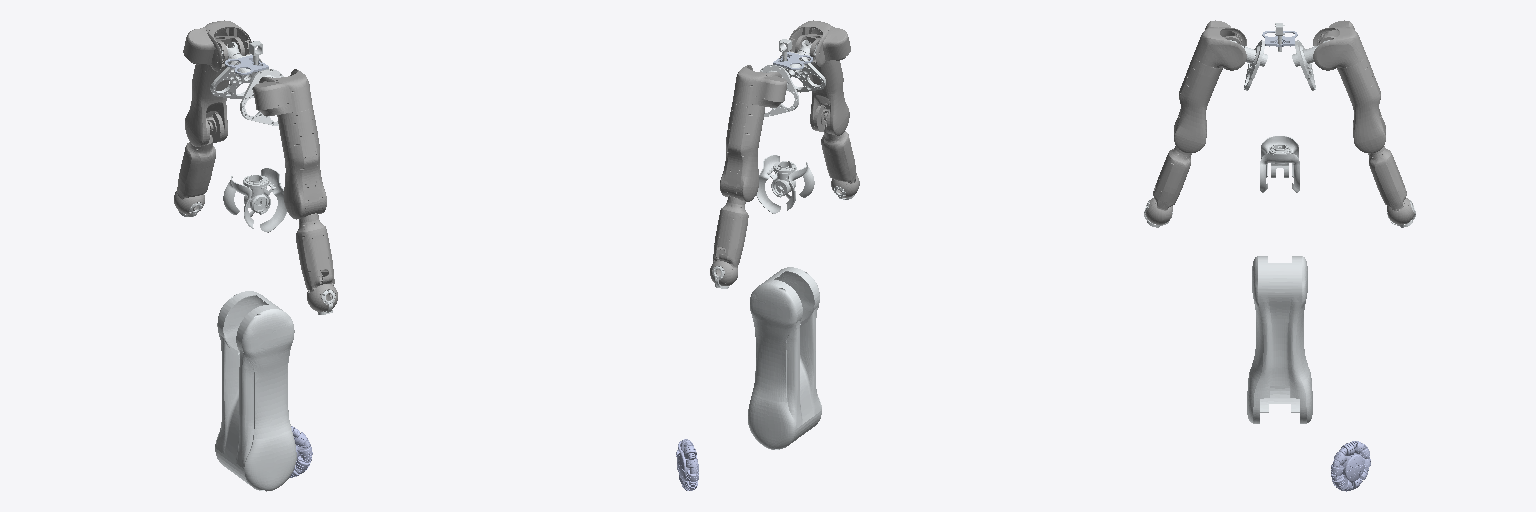
--- Render facts (derived) ---
The picture shows the robot from 3 angles, left to right: view 1: azimuth 30°, elevation 25°; view 2: azimuth 150°, elevation 25°; view 3: azimuth 270°, elevation 25°; orthographic projection.
Model astribot_whole_body with 31 links and 30 joints (20 revolute, 4 continuous, 6 fixed), rooted at astribot_torso_base, posed all joints at 0.
Visible links, largest first — view 1: astribot_torso_link_1, astribot_arm_right_link_3, astribot_arm_right_link_5, astribot_arm_left_link_3, astribot_torso_link_3, astribot_arm_left_link_2, astribot_arm_right_link_2, astribot_arm_left_link_5, astribot_arm_right_base_link, astribot_arm_left_base_link, wheel_LF_Link; view 2: astribot_torso_link_1, astribot_arm_left_link_3, astribot_arm_left_link_5, astribot_arm_right_link_3, astribot_torso_link_3, astribot_arm_right_link_2, astribot_arm_left_link_2, astribot_arm_right_link_5, wheel_LF_Link, astribot_arm_left_base_link, astribot_arm_right_base_link; view 3: astribot_torso_link_1, astribot_arm_left_link_3, astribot_arm_right_link_3, astribot_arm_left_link_2, astribot_arm_right_link_2, astribot_arm_left_link_5, astribot_arm_right_link_5, astribot_torso_link_3, wheel_LF_Link.
Link boxes in pixels (x1,y1,x2,y2): astribot_torso_link_1: (215,291,296,491); astribot_arm_right_link_3: (277,107,326,219); astribot_arm_right_link_5: (296,219,337,310); astribot_arm_left_link_3: (185,64,229,146); astribot_torso_link_3: (223,168,286,232); astribot_arm_left_link_2: (183,20,251,71); astribot_arm_right_link_2: (253,69,312,115); astribot_arm_left_link_5: (174,142,215,213); astribot_arm_right_base_link: (240,69,283,125); astribot_arm_left_base_link: (210,54,261,98); wheel_LF_Link: (289,426,312,477); astribot_torso_link_1: (748,267,821,449); astribot_arm_left_link_3: (720,100,764,201); astribot_arm_left_link_5: (710,201,748,285); astribot_arm_right_link_3: (809,60,849,135); astribot_torso_link_3: (756,155,814,213); astribot_arm_right_link_2: (789,20,850,66); astribot_arm_left_link_2: (733,65,786,107); astribot_arm_right_link_5: (821,131,859,196); wheel_LF_Link: (676,439,698,490); astribot_arm_left_base_link: (760,65,798,116); astribot_arm_right_base_link: (779,51,825,92); astribot_torso_link_1: (1247,256,1312,423); astribot_arm_left_link_3: (1337,55,1385,153); astribot_arm_right_link_3: (1174,55,1222,153); astribot_arm_left_link_2: (1313,20,1365,70); astribot_arm_right_link_2: (1194,20,1246,70); astribot_arm_left_link_5: (1368,148,1412,224); astribot_arm_right_link_5: (1147,148,1191,224); astribot_torso_link_3: (1260,136,1299,192); wheel_LF_Link: (1331,441,1370,491).
Bounding box of the posed robot: 0.3886 × 0.8328 × 1.47 m (x, y, z).
Meshes: 22 distinct files referenced, 21 mesh visuals loaded (15 binary STL); not drawn: 7 (reference not matched to a file when rendering).

URDF robot description (astribot_whole_body):
<?xml version="1.0" ?>
<!-- =================================================================================== -->
<!-- |    This document was autogenerated by xacro from astribot_s1_whole_body_with_wheel.xacro | -->
<!-- |    EDITING THIS FILE BY HAND IS NOT RECOMMENDED                                 | -->
<!-- =================================================================================== -->
<!-- run: xacro astribot_s1_whole_body.xacro -o astribot_s1_whole_body.urdf to generate the following .urdf file -->
<robot name="astribot_whole_body">
  <link name="astribot_torso_base">
    <inertial>
      <origin rpy="0 0 0" xyz="-0.062784 0.007017 0.035375"/>
      <mass value="39.24781"/>
      <inertia ixx="1.071997" ixy="0.015889" ixz="-0.058447" iyy="1.218431" iyz="-0.002015" izz="1.489411"/>
    </inertial>
    <visual>
      <origin rpy="0 0 0" xyz="0 0 0"/>
      <geometry>
        <mesh filename="s1_torso/astribot_torso_base_link.STL"/>
      </geometry>
      <material name="">
        <color rgba="0.79216 0.81961 0.93333 1"/>
      </material>
    </visual>
    <collision>
      <origin rpy="0 0 0" xyz="0 0 -0.05"/>
      <geometry>
        <cylinder length="0.1" radius="0.3"/>
      </geometry>
    </collision>
  </link>
  <link name="wheel_RF_Link">
    <inertial>
      <origin rpy="0 0 0" xyz="2.7624E-07 -1.7583E-07 0.014539"/>
      <mass value="0.56418"/>
      <inertia ixx="0.00083188" ixy="3.5362E-09" ixz="-2.2361E-10" iyy="0.00083188" iyz="1.788E-10" izz="0.0015639"/>
    </inertial>
    <visual>
      <origin rpy="0 0 0" xyz="0 0 0"/>
      <geometry>
        <mesh filename="s1_torso/wheel_RF_Link.STL"/>
      </geometry>
      <material name="">
        <color rgba="0.75294 0.75294 0.75294 1"/>
      </material>
    </visual>
  </link>
  <joint name="wheel_RF_Joint" type="continuous">
    <origin rpy="2.35619 -1.5708 0" xyz="0.21634675 -0.21634675 -0.015"/>
    <parent link="astribot_torso_base"/>
    <child link="wheel_RF_Link"/>
    <axis xyz="0 0 1"/>
  </joint>
  <link name="wheel_LF_Link">
    <inertial>
      <origin rpy="0 0 0" xyz="2.7617E-07 -1.7589E-07 0.014539"/>
      <mass value="0.56418"/>
      <inertia ixx="0.00083188" ixy="3.5366E-09" ixz="-2.2387E-10" iyy="0.00083188" iyz="1.782E-10" izz="0.0015639"/>
    </inertial>
    <visual>
      <origin rpy="0 0 0" xyz="0 0 0"/>
      <geometry>
        <mesh filename="s1_torso/wheel_LF_Link.STL"/>
      </geometry>
      <material name="">
        <color rgba="0.79216 0.81961 0.93333 1"/>
      </material>
    </visual>
  </link>
  <joint name="wheel_LF_Joint" type="continuous">
    <origin rpy="-2.35619 -1.5708 0" xyz="0.21634675 0.21634675 -0.015"/>
    <parent link="astribot_torso_base"/>
    <child link="wheel_LF_Link"/>
    <axis xyz="0 0 1"/>
  </joint>
  <link name="wheel_RR_Link">
    <inertial>
      <origin rpy="0 0 0" xyz="-2.7619E-07 1.7583E-07 0.014539"/>
      <mass value="0.56418"/>
      <inertia ixx="0.00083188" ixy="3.5357E-09" ixz="2.2361E-10" iyy="0.00083188" iyz="-1.7877E-10" izz="0.0015639"/>
    </inertial>
    <visual>
      <origin rpy="0 0 0" xyz="0 0 0"/>
      <geometry>
        <mesh filename="s1_torso/wheel_RR_Link.STL"/>
      </geometry>
      <material name="">
        <color rgba="0.79216 0.81961 0.93333 1"/>
      </material>
    </visual>
  </link>
  <joint name="wheel_RR_Joint" type="continuous">
    <origin rpy="0.785398 -1.5708 0" xyz="-0.21634675 -0.21134675 -0.015"/>
    <parent link="astribot_torso_base"/>
    <child link="wheel_RR_Link"/>
    <axis xyz="0 0 1"/>
  </joint>
  <link name="wheel_LR_Link">
    <inertial>
      <origin rpy="0 0 0" xyz="0.0019998 -0.0070713 0.014539"/>
      <mass value="0.56418"/>
      <inertia ixx="0.00083188" ixy="-3.5327E-09" ixz="1.7812E-10" iyy="0.00083188" iyz="2.2432E-10" izz="0.0015639"/>
    </inertial>
    <visual>
      <origin rpy="0 0 0" xyz="0 0 0"/>
      <geometry>
        <mesh filename="s1_torso/wheel_LR_Link.STL"/>
      </geometry>
      <material name="">
        <color rgba="0.79216 0.81961 0.93333 1"/>
      </material>
    </visual>
  </link>
  <joint name="wheel_LR_Joint" type="continuous">
    <origin rpy="-0.785398 -1.5708 0" xyz="-0.21634675 0.21134675 -0.015"/>
    <parent link="astribot_torso_base"/>
    <child link="wheel_LR_Link"/>
    <axis xyz="0 0 1"/>
  </joint>
  <link name="astribot_torso_link_1">
    <inertial>
      <origin rpy="0 0 0" xyz="-0.15249 0.00021066 -0.0033476"/>
      <mass value="7.3766"/>
      <inertia ixx="0.028834" ixy="-0.0052759" ixz="0.00010767" iyy="0.1483" iyz="1.1652E-05" izz="0.14268"/>
    </inertial>
    <visual>
      <origin rpy="0 0 0" xyz="0 0 0"/>
      <geometry>
        <mesh filename="s1_torso/astribot_torso_link_1.STL"/>
      </geometry>
      <material name="">
        <color rgba="0.89804 0.91765 0.92941 1"/>
      </material>
    </visual>
    <collision>
      <origin rpy="0 1.57 0" xyz="-0.15 0 0"/>
      <geometry>
        <cylinder length="0.3" radius="0.1"/>
      </geometry>
    </collision>
  </link>
  <joint name="astribot_torso_joint_1" type="revolute">
    <origin rpy="-1.5708 1.5708 0" xyz="0 0 0.12"/>
    <parent link="astribot_torso_base"/>
    <child link="astribot_torso_link_1"/>
    <axis xyz="0 0 1"/>
    <limit effort="100" lower="0.0" upper="1.4" velocity="6.0"/>
  </joint>
  <link name="astribot_torso_link_2">
    <inertial>
      <origin rpy="0 0 0" xyz="-0.22214 0.028873 0.00059024"/>
      <mass value="5.6183"/>
      <inertia ixx="0.0082545" ixy="0.0011523" ixz="0.00035614" iyy="0.012677" iyz="-5.8287E-05" izz="0.017512"/>
    </inertial>
    <visual>
      <origin rpy="0 0 0" xyz="0 0 0"/>
      <geometry>
        <mesh filename="s1_torso/astribot_torso_link_2.STL"/>
      </geometry>
      <material name="">
        <color rgba="0.89804 0.91765 0.92941 1"/>
      </material>
    </visual>
    <collision>
      <origin rpy="0 1.57 -0.25" xyz="-0.15 0.03 0"/>
      <geometry>
        <cylinder length="0.3" radius="0.1"/>
      </geometry>
    </collision>
  </link>
  <joint name="astribot_torso_joint_2" type="revolute">
    <origin rpy="0 0 0" xyz="-0.38 0 0"/>
    <parent link="astribot_torso_link_1"/>
    <child link="astribot_torso_link_2"/>
    <axis xyz="0 0 1"/>
    <limit effort="100" lower="-2.3" upper="0.0" velocity="6.0"/>
  </joint>
  <link name="astribot_torso_link_3">
    <inertial>
      <origin rpy="0 0 0" xyz="-0.017519 0.00059523 0.00025821"/>
      <mass value="0.49013"/>
      <inertia ixx="0.00022212" ixy="-2.6767E-07" ixz="4.3987E-07" iyy="0.00036522" iyz="3.8834E-07" izz="0.00038039"/>
    </inertial>
    <visual>
      <origin rpy="0 0 0" xyz="0 0 0"/>
      <geometry>
        <mesh filename="s1_torso/astribot_torso_link_3.STL"/>
      </geometry>
      <material name="">
        <color rgba="0.89804 0.91765 0.92941 1"/>
      </material>
    </visual>
    <collision>
      <origin rpy="0 1.57 0" xyz="-0.18 0.01 0"/>
      <geometry>
        <cylinder length="0.35" radius="0.09"/>
      </geometry>
    </collision>
  </link>
  <joint name="astribot_torso_joint_3" type="revolute">
    <origin rpy="0 0 0" xyz="-0.390 0 0"/>
    <parent link="astribot_torso_link_2"/>
    <child link="astribot_torso_link_3"/>
    <axis xyz="0 0 1"/>
    <limit effort="100" lower="0.0" upper="2.3" velocity="6.0"/>
  </joint>
  <link name="astribot_torso_link_4">
    <inertial>
      <origin rpy="0 0 0" xyz="0.00476227191516749 -4.56966810241128E-05 0.242912573510671"/>
      <mass value="3.55695635704638"/>
      <inertia ixx="0.0165768322563514" ixy="-9.94098112646385E-06" ixz="-0.000100011483384926" iyy="0.014904355097835" iyz="9.86752047032885E-07" izz="0.0110629318711333"/>
    </inertial>
    <visual>
      <origin rpy="0 0 0" xyz="0 0 0"/>
      <geometry>
        <mesh filename="s1_torso/astribot_torso_link_4.STL"/>
      </geometry>
      <material name="">
        <color rgba="0.898039215686275 0.917647058823529 0.929411764705882 1"/>
      </material>
    </visual>
  </link>
  <joint name="astribot_torso_joint_4" type="revolute">
    <origin rpy="1.5708 0 -1.5708" xyz="0 0 0"/>
    <parent link="astribot_torso_link_3"/>
    <child link="astribot_torso_link_4"/>
    <axis xyz="0 0 1"/>
    <limit effort="100" lower="-1.5" upper="1.5" velocity="6.0"/>
  </joint>
  <link name="astribot_torso_end_effector">
    <inertial>
      <origin rpy="0 0 0" xyz="0 0 0"/>
      <mass value="0"/>
      <inertia ixx="0" ixy="0" ixz="0" iyy="0" iyz="0" izz="0"/>
    </inertial>
  </link>
  <joint name="astribot_torso_end_effector_fixed_joint" type="fixed">
    <origin rpy="0.0 0.0 0.0" xyz="0 0 0.34475"/>
    <parent link="astribot_torso_link_4"/>
    <child link="astribot_torso_end_effector"/>
  </joint>
  <link name="astribot_head_base_link">
    <inertial>
      <origin rpy="0 0 0" xyz="-0.02816247 -0.00023176 -0.05211965"/>
      <mass value="0.39541440"/>
      <inertia ixx="0.00036025" ixy="-0.00003505" ixz="0.00004865" iyy="0.00049377" iyz="0.00000243" izz="0.00074441"/>
    </inertial>
    <visual>
      <origin rpy="0 0 0" xyz="0 0 0"/>
      <geometry>
        <mesh filename="s1_head/astribot_head_base_link.STL"/>
      </geometry>
      <material name="">
        <color rgba="0.807843137254902 0.843137254901961 0.905882352941176 1"/>
      </material>
    </visual>
  </link>
  <link name="astribot_head_link_1">
    <inertial>
      <origin rpy="0 0 0" xyz="0.00003191 -0.00038566 -0.02579910"/>
      <mass value="0.13910581"/>
      <inertia ixx="0.00004567" ixy="0.00000003" ixz="0.00000004" iyy="0.00004789" iyz="-0.00000091" izz="0.00003779"/>
    </inertial>
    <visual>
      <origin rpy="0 0 0" xyz="0 0 0"/>
      <geometry>
        <mesh filename="s1_head/astribot_head_link_1.STL"/>
      </geometry>
      <material name="">
        <color rgba="0.898039215686275 0.917647058823529 0.929411764705882 1"/>
      </material>
    </visual>
  </link>
  <joint name="astribot_head_joint_1" type="revolute">
    <origin rpy="0 0 0" xyz="0 0 0"/>
    <parent link="astribot_head_base_link"/>
    <child link="astribot_head_link_1"/>
    <axis xyz="0 0 1"/>
    <limit effort="100" lower="-1.57" upper="1.57" velocity="4.0"/>
  </joint>
  <link name="astribot_head_link_2">
    <inertial>
      <origin rpy="0 0 0" xyz="0.00705824 -0.14472601 -0.00061724"/>
      <mass value="0.97012447"/>
      <inertia ixx="0.00555660" ixy="-0.00041600" ixz="-0.00000036" iyy="0.00151908" iyz="-0.00012043" izz="0.00544493"/>
    </inertial>
    <visual>
      <origin rpy="0 0 0" xyz="0 0 0"/>
      <geometry>
        <mesh filename="s1_head/astribot_head_link_2.STL"/>
      </geometry>
      <material name="">
        <color rgba="0.807843137254902 0.843137254901961 0.905882352941176 1"/>
      </material>
    </visual>
    <collision>
      <origin rpy="0 0 0" xyz="0 -0.15 0"/>
      <geometry>
        <sphere radius="0.11"/>
      </geometry>
    </collision>
  </link>
  <joint name="astribot_head_joint_2" type="revolute">
    <origin rpy="-1.5708 0 0" xyz="0 0 0"/>
    <parent link="astribot_head_link_1"/>
    <child link="astribot_head_link_2"/>
    <axis xyz="0 0 1"/>
    <limit effort="100" lower="-1.22" upper="1.22" velocity="4.0"/>
  </joint>
  <link name="astribot_arm_left_base_link">
    <inertial>
      <origin rpy="0 0 0" xyz="-0.04309067 -0.01849796 -0.01384838"/>
      <mass value="2.22887320"/>
      <inertia ixx="0.00386389" ixy="-0.00050396" ixz="0.00025566" iyy="0.00306042" iyz="0.00019224" izz="0.00570294"/>
    </inertial>
    <visual>
      <origin rpy="0 0 0" xyz="0 0 0"/>
      <geometry>
        <mesh filename="s1_arm/astribot_arm_left_base_link.STL"/>
      </geometry>
      <material name="">
        <color rgba="0.898039215686275 0.917647058823529 0.929411764705882 1"/>
      </material>
    </visual>
  </link>
  <link name="astribot_arm_left_link_1">
    <inertial>
      <origin rpy="0 0 0" xyz="0.00012026 0.00047499 -0.05682561"/>
      <mass value="0.59936716"/>
      <inertia ixx="0.00064791" ixy="0.00000149" ixz="0.00000133" iyy="0.00065264" iyz="0.00000160" izz="0.00050137"/>
    </inertial>
    <visual>
      <origin rpy="0 0 0" xyz="0 0 0"/>
      <geometry>
        <mesh filename="s1_arm/astribot_arm_link_1.STL"/>
      </geometry>
      <material name="">
        <color rgba="0.898039215686275 0.917647058823529 0.929411764705882 1"/>
      </material>
    </visual>
  </link>
  <joint name="astribot_arm_left_joint_1" type="revolute">
    <origin rpy="0 0 0" xyz="0 0 0.091"/>
    <parent link="astribot_arm_left_base_link"/>
    <child link="astribot_arm_left_link_1"/>
    <axis xyz="0 0 1"/>
    <limit effort="265" lower="-3.0" upper="3.0" velocity="8.4"/>
  </joint>
  <link name="astribot_arm_left_link_2">
    <inertial>
      <origin rpy="0 0 0" xyz="-0.00396228 0.03490708 0.04270156"/>
      <mass value="1.43694657"/>
      <inertia ixx="0.00360751" ixy="-0.00009193" ixz="0.00007764" iyy="0.00283747" iyz="0.00054945" izz="0.00172927"/>
    </inertial>
    <visual>
      <origin rpy="0 0 0" xyz="0 0 0"/>
      <geometry>
        <mesh filename="s1_arm/astribot_arm_left_link_2.STL"/>
      </geometry>
      <material name="">
        <color rgba="0.698039215686274 0.698039215686274 0.698039215686274 1"/>
      </material>
    </visual>
  </link>
  <joint name="astribot_arm_left_joint_2" type="revolute">
    <origin rpy="1.5708 0 0" xyz="0 0 0"/>
    <parent link="astribot_arm_left_link_1"/>
    <child link="astribot_arm_left_link_2"/>
    <axis xyz="0 0 1"/>
    <limit effort="265" lower="-1.4" upper="0.4" velocity="8.4"/>
  </joint>
  <link name="astribot_arm_left_link_3">
    <inertial>
      <origin rpy="0 0 0" xyz="0.00531263 0.00020707 0.16136713"/>
      <mass value="2.0926399"/>
      <inertia ixx="0.01752179" ixy="2.336e-05" ixz="0.00144018" iyy="0.01784671" iyz="-3.027e-05" izz="0.0021843"/>
    </inertial>
    <visual>
      <origin rpy="0 0 0" xyz="0 0 0"/>
      <geometry>
        <mesh filename="s1_arm/astribot_arm_link_3.STL"/>
      </geometry>
      <material name="">
        <color rgba="0.698039215686274 0.698039215686274 0.698039215686274 1"/>
      </material>
    </visual>
    <collision>
      <origin rpy="0 0 0" xyz="0 0 0.15"/>
      <geometry>
        <cylinder length="0.18" radius="0.05"/>
      </geometry>
    </collision>
  </link>
  <joint name="astribot_arm_left_joint_3" type="revolute">
    <origin rpy="1.5708 0 -1.5708" xyz="0 0.05 0"/>
    <parent link="astribot_arm_left_link_2"/>
    <child link="astribot_arm_left_link_3"/>
    <axis xyz="0 0 1"/>
    <limit effort="132" lower="-3.0" upper="1.4" velocity="8.4"/>
  </joint>
  <link name="astribot_arm_left_link_4">
    <inertial>
      <origin rpy="0 0 0" xyz="0.00017294 -0.01269315 0.00196140"/>
      <mass value="0.36587933"/>
      <inertia ixx="0.00047693" ixy="0.00000635" ixz=" 0.00000135" iyy="0.00036801" iyz="0.00000705" izz="0.00050082"/>
    </inertial>
    <visual>
      <origin rpy="0 0 0" xyz="0 0 0"/>
      <geometry>
        <mesh filename="s1_arm/astribot_arm_link_4.STL"/>
      </geometry>
      <material name="">
        <color rgba="0.698039215686274 0.698039215686274 0.698039215686274 1"/>
      </material>
    </visual>
    <collision>
      <origin rpy="0 0 0" xyz="0 0 0"/>
      <geometry>
        <sphere radius="0.06"/>
      </geometry>
    </collision>
  </link>
  <joint name="astribot_arm_left_joint_4" type="revolute">
    <origin rpy="-1.5708 0 0" xyz="0.03 0 0.309"/>
    <parent link="astribot_arm_left_link_3"/>
    <child link="astribot_arm_left_link_4"/>
    <axis xyz="0 0 1"/>
    <limit effort="142" lower="0.0" upper="2.4" velocity="15"/>
  </joint>
  <link name="astribot_arm_left_link_5">
    <inertial>
      <origin rpy="0 0 0" xyz="-0.00032037 -0.00015185 0.15370447"/>
      <mass value="1.24085064"/>
      <inertia ixx="0.00454092" ixy="1.58e-06" ixz="-5.91e-06" iyy="0.00438922" iyz="-4.927e-05" izz="0.00079442"/>
    </inertial>
    <visual>
      <origin rpy="0 0 0" xyz="0 0 0"/>
      <geometry>
        <mesh filename="s1_arm/astribot_arm_link_5.STL"/>
      </geometry>
      <material name="">
        <color rgba="0.698039215686274 0.698039215686274 0.698039215686274 1"/>
      </material>
    </visual>
    <collision>
      <origin rpy="0 0 0" xyz="0 0 0.14"/>
      <geometry>
        <cylinder length="0.14" radius="0.05"/>
      </geometry>
    </collision>
  </link>
  <joint name="astribot_arm_left_joint_5" type="revolute">
    <origin rpy="1.5708 0 0" xyz="0 0 0"/>
    <parent link="astribot_arm_left_link_4"/>
    <child link="astribot_arm_left_link_5"/>
    <axis xyz="0 0 1"/>
    <limit effort="71" lower="-2.0" upper="2.0" velocity="15"/>
  </joint>
  <link name="astribot_arm_left_link_6">
    <inertial>
      <origin rpy="0 0 0" xyz="-0.00010311 0.00001218 0.00013181"/>
      <mass value="0.22465307"/>
      <inertia ixx="0.00016474" ixy="0.00000007" ixz="0.00000025" iyy="0.00015608" iyz="0.00000018" izz="0.00008555"/>
    </inertial>
    <visual>
      <origin rpy="0 0 0" xyz="0 0 0"/>
      <geometry>
        <mesh filename="s1_arm/astribot_arm_link_6.STL"/>
      </geometry>
      <material name="">
        <color rgba="0.698039215686274 0.698039215686274 0.698039215686274 1"/>
      </material>
    </visual>
  </link>
  <joint name="astribot_arm_left_joint_6" type="revolute">
    <origin rpy="-1.5708 0 0" xyz="0 0 0.277"/>
    <parent link="astribot_arm_left_link_5"/>
    <child link="astribot_arm_left_link_6"/>
    <axis xyz="0 0 1"/>
    <limit effort="20" lower="-0.6" upper="0.6" velocity="16.8"/>
  </joint>
  <link name="astribot_arm_left_link_7">
    <inertial>
      <origin rpy="0 0 0" xyz="4.333e-05 -0.00723447 -0.00362428"/>
      <mass value="0.12772019"/>
      <inertia ixx="0.00013672" ixy="1.6e-07" ixz="-2.4e-07" iyy="0.00010783" iyz="-3.35e-06" izz="5.858e-05"/>
    </inertial>
    <visual>
      <origin rpy="0 0 0" xyz="0 0 0"/>
      <geometry>
        <mesh filename="s1_arm/astribot_arm_link_7.STL"/>
      </geometry>
      <material name="">
        <color rgba="0.898039215686275 0.917647058823529 0.929411764705882 1"/>
      </material>
    </visual>
    <collision>
      <origin rpy="0 0 0" xyz="0.006 0 0"/>
      <geometry>
        <sphere radius="0.05"/>
      </geometry>
    </collision>
  </link>
  <joint name="astribot_arm_left_joint_7" type="revolute">
    <origin rpy="0 1.5708 0" xyz="0 0 0"/>
    <parent link="astribot_arm_left_link_6"/>
    <child link="astribot_arm_left_link_7"/>
    <axis xyz="0 0 1"/>
    <limit effort="20" lower="-1.4" upper="1.4" velocity="16.8"/>
  </joint>
  <link name="astribot_arm_left_tool_link">
    <inertial>
      <origin rpy="0 0 0" xyz=" -0.00019766 -0.10719761 0.00190898"/>
      <mass value="0.64762850"/>
      <inertia ixx="0.00152446" ixy="0.00000144" ixz="-0.00000058" iyy="0.00033076" iyz="0.00004144" izz="0.00156453"/>
    </inertial>
  </link>
  <joint name="astribot_arm_left_tool_joint" type="fixed">
    <origin rpy="0 0 0" xyz="0 0 0"/>
    <parent link="astribot_arm_left_link_7"/>
    <child link="astribot_arm_left_tool_link"/>
  </joint>
  <link name="astribot_arm_right_base_link">
    <inertial>
      <origin rpy="0 0 0" xyz="-0.04450932 0.01988693 0.00162589"/>
      <mass value="2.22887320"/>
      <inertia ixx="0.00396811" ixy="0.00041290" ixz="-0.00033387" iyy="0.00304615" iyz="-0.00021572" izz="0.00574641"/>
    </inertial>
    <visual>
      <origin rpy="0 0 0" xyz="0 0 0"/>
      <geometry>
        <mesh filename="s1_arm/astribot_arm_right_base_link.STL"/>
      </geometry>
      <material name="">
        <color rgba="0.898039215686275 0.917647058823529 0.929411764705882 1"/>
      </material>
    </visual>
  </link>
  <link name="astribot_arm_right_link_1">
    <inertial>
      <origin rpy="0 0 0" xyz="0.00012026 0.00047499 -0.05682561"/>
      <mass value="0.59936716"/>
      <inertia ixx="0.00064791" ixy="0.00000149" ixz="0.00000133" iyy="0.00065264" iyz="0.00000160" izz="0.00050137"/>
    </inertial>
    <visual>
      <origin rpy="0 0 0" xyz="0 0 0"/>
      <geometry>
        <mesh filename="s1_arm/astribot_arm_link_1.STL"/>
      </geometry>
      <material name="">
        <color rgba="0.898039215686275 0.917647058823529 0.929411764705882 1"/>
      </material>
    </visual>
  </link>
  <joint name="astribot_arm_right_joint_1" type="revolute">
    <origin rpy="0 0 0" xyz="0 0 0.091"/>
    <parent link="astribot_arm_right_base_link"/>
    <child link="astribot_arm_right_link_1"/>
    <axis xyz="0 0 1"/>
    <limit effort="265" lower="-3.0" upper="3.0" velocity="8.4"/>
  </joint>
  <link name="astribot_arm_right_link_2">
    <inertial>
      <origin rpy="0 0 0" xyz="-0.00384709 0.03502105 -0.04050705"/>
      <mass value="1.45811037"/>
      <inertia ixx="0.00394196" ixy="-8.846e-05" ixz="-3.742e-05" iyy="0.00316298" iyz="-0.0007079" izz="0.00177295"/>
    </inertial>
    <visual>
      <origin rpy="0 0 0" xyz="0 0 0"/>
      <geometry>
        <mesh filename="s1_arm/astribot_arm_right_link_2.STL"/>
      </geometry>
      <material name="">
        <color rgba="0.698039215686274 0.698039215686274 0.698039215686274 1"/>
      </material>
    </visual>
  </link>
  <joint name="astribot_arm_right_joint_2" type="revolute">
    <origin rpy="1.5708 0 0" xyz="0 0 0"/>
    <parent link="astribot_arm_right_link_1"/>
    <child link="astribot_arm_right_link_2"/>
    <axis xyz="0 0 1"/>
    <limit effort="265" lower="-1.4" upper="0.4" velocity="8.4"/>
  </joint>
  <link name="astribot_arm_right_link_3">
    <inertial>
      <origin rpy="0 0 0" xyz="0.00531263 0.00020707 0.16136713"/>
      <mass value="2.0926399"/>
      <inertia ixx="0.01752179" ixy="2.336e-05" ixz="0.00144018" iyy="0.01784671" iyz="-3.027e-05" izz="0.0021843"/>
    </inertial>
    <visual>
      <origin rpy="0 0 0" xyz="0 0 0"/>
      <geometry>
        <mesh filename="s1_arm/astribot_arm_link_3.STL"/>
      </geometry>
      <material name="">
        <color rgba="0.698039215686274 0.698039215686274 0.698039215686274 1"/>
      </material>
    </visual>
    <collision>
      <origin rpy="0 0 0" xyz="0 0 0.15"/>
      <geometry>
        <cylinder length="0.18" radius="0.05"/>
      </geometry>
    </collision>
  </link>
  <joint name="astribot_arm_right_joint_3" type="revolute">
    <origin rpy="1.5708 0 -1.5708" xyz="0 0.05 0"/>
    <parent link="astribot_arm_right_link_2"/>
    <child link="astribot_arm_right_link_3"/>
    <axis xyz="0 0 1"/>
    <limit effort="132" lower="-1.4" upper="3.1" velocity="8.4"/>
  </joint>
  <link name="astribot_arm_right_link_4">
    <inertial>
      <origin rpy="0 0 0" xyz="0.00017294 -0.01269315 0.00196140"/>
      <mass value="0.36587933"/>
      <inertia ixx="0.00047693" ixy="0.00000635" ixz=" 0.00000135" iyy="0.00036801" iyz="0.00000705" izz="0.00050082"/>
    </inertial>
    <visual>
      <origin rpy="0 0 0" xyz="0 0 0"/>
      <geometry>
        <mesh filename="s1_arm/astribot_arm_link_4.STL"/>
      </geometry>
      <material name="">
        <color rgba="0.698039215686274 0.698039215686274 0.698039215686274 1"/>
      </material>
    </visual>
    <collision>
      <origin rpy="0 0 0" xyz="0 0 0"/>
      <geometry>
        <sphere radius="0.06"/>
      </geometry>
    </collision>
  </link>
  <joint name="astribot_arm_right_joint_4" type="revolute">
    <origin rpy="-1.5708 0 0" xyz="0.03 0 0.309"/>
    <parent link="astribot_arm_right_link_3"/>
    <child link="astribot_arm_right_link_4"/>
    <axis xyz="0 0 1"/>
    <limit effort="142" lower="0.0" upper="2.4" velocity="15"/>
  </joint>
  <link name="astribot_arm_right_link_5">
    <inertial>
      <origin rpy="0 0 0" xyz="-0.00032037 -0.00015185 0.15370447"/>
      <mass value="1.24085064"/>
      <inertia ixx="0.00454092" ixy="1.58e-06" ixz="-5.91e-06" iyy="0.00438922" iyz="-4.927e-05" izz="0.00079442"/>
    </inertial>
    <visual>
      <origin rpy="0 0 0" xyz="0 0 0"/>
      <geometry>
        <mesh filename="s1_arm/astribot_arm_link_5.STL"/>
      </geometry>
      <material name="">
        <color rgba="0.698039215686274 0.698039215686274 0.698039215686274 1"/>
      </material>
    </visual>
    <collision>
      <origin rpy="0 0 0" xyz="0 0 0.14"/>
      <geometry>
        <cylinder length="0.14" radius="0.05"/>
      </geometry>
    </collision>
  </link>
  <joint name="astribot_arm_right_joint_5" type="revolute">
    <origin rpy="1.5708 0 0" xyz="0 0 0"/>
    <parent link="astribot_arm_right_link_4"/>
    <child link="astribot_arm_right_link_5"/>
    <axis xyz="0 0 1"/>
    <limit effort="71" lower="-2.0" upper="2.0" velocity="15"/>
  </joint>
  <link name="astribot_arm_right_link_6">
    <inertial>
      <origin rpy="0 0 0" xyz="-0.00010311 0.00001218 0.00013181"/>
      <mass value="0.22465307"/>
      <inertia ixx="0.00016474" ixy="0.00000007" ixz="0.00000025" iyy="0.00015608" iyz="0.00000018" izz="0.00008555"/>
    </inertial>
    <visual>
      <origin rpy="0 0 0" xyz="0 0 0"/>
      <geometry>
        <mesh filename="s1_arm/astribot_arm_link_6.STL"/>
      </geometry>
      <material name="">
        <color rgba="0.698039215686274 0.698039215686274 0.698039215686274 1"/>
      </material>
    </visual>
  </link>
  <joint name="astribot_arm_right_joint_6" type="revolute">
    <origin rpy="-1.5708 0 0" xyz="0 0 0.277"/>
    <parent link="astribot_arm_right_link_5"/>
    <child link="astribot_arm_right_link_6"/>
    <axis xyz="0 0 1"/>
    <limit effort="20" lower="-0.6" upper="0.6" velocity="16.8"/>
  </joint>
  <link name="astribot_arm_right_link_7">
    <inertial>
      <origin rpy="0 0 0" xyz="4.333e-05 -0.00723447 -0.00362428"/>
      <mass value="0.12772019"/>
      <inertia ixx="0.00013672" ixy="1.6e-07" ixz="-2.4e-07" iyy="0.00010783" iyz="-3.35e-06" izz="5.858e-05"/>
    </inertial>
    <visual>
      <origin rpy="0 0 0" xyz="0 0 0"/>
      <geometry>
        <mesh filename="s1_arm/astribot_arm_link_7.STL"/>
      </geometry>
      <material name="">
        <color rgba="0.898039215686275 0.917647058823529 0.929411764705882 1"/>
      </material>
    </visual>
    <collision>
      <origin rpy="0 0 0" xyz="0.006 0 0"/>
      <geometry>
        <sphere radius="0.05"/>
      </geometry>
    </collision>
  </link>
  <joint name="astribot_arm_right_joint_7" type="revolute">
    <origin rpy="0 1.5708 0" xyz="0 0 0"/>
    <parent link="astribot_arm_right_link_6"/>
    <child link="astribot_arm_right_link_7"/>
    <axis xyz="0 0 1"/>
    <limit effort="20" lower="-1.4" upper="1.4" velocity="16.8"/>
  </joint>
  <link name="astribot_arm_right_tool_link">
    <inertial>
      <origin rpy="0 0 0" xyz=" -0.00019766 -0.10719761 0.00190898"/>
      <mass value="0.64762850"/>
      <inertia ixx="0.00152446" ixy="0.00000144" ixz="-0.00000058" iyy="0.00033076" iyz="0.00004144" izz="0.00156453"/>
    </inertial>
  </link>
  <joint name="astribot_arm_right_tool_joint" type="fixed">
    <origin rpy="0 0 0" xyz="0 0 0"/>
    <parent link="astribot_arm_right_link_7"/>
    <child link="astribot_arm_right_tool_link"/>
  </joint>
  <joint name="astribot_head_fixed_joint" type="fixed">
    <parent link="astribot_torso_end_effector"/>
    <child link="astribot_head_base_link"/>
    <origin rpy="0 0 0" xyz="0 0 0.1229"/>
  </joint>
  <joint name="astribot_arm_left_base_fixed_joint" type="fixed">
    <parent link="astribot_torso_end_effector"/>
    <child link="astribot_arm_left_base_link"/>
    <origin rpy="0 -1.22173 -1.5707963" xyz="0 0.06449 0.02348"/>
  </joint>
  <joint name="astribot_arm_right_base_fixed_joint" type="fixed">
    <parent link="astribot_torso_end_effector"/>
    <child link="astribot_arm_right_base_link"/>
    <origin rpy="0 -1.22173 1.5707963" xyz="0 -0.06449 0.02348"/>
  </joint>
</robot>
